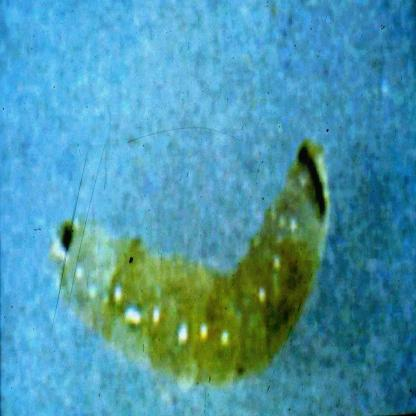whorl-maggot: (52, 138, 330, 390)
